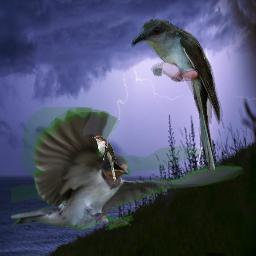Cuckoo: (131, 19, 223, 170), (91, 135, 116, 181)
Swallow: (11, 107, 244, 230)
